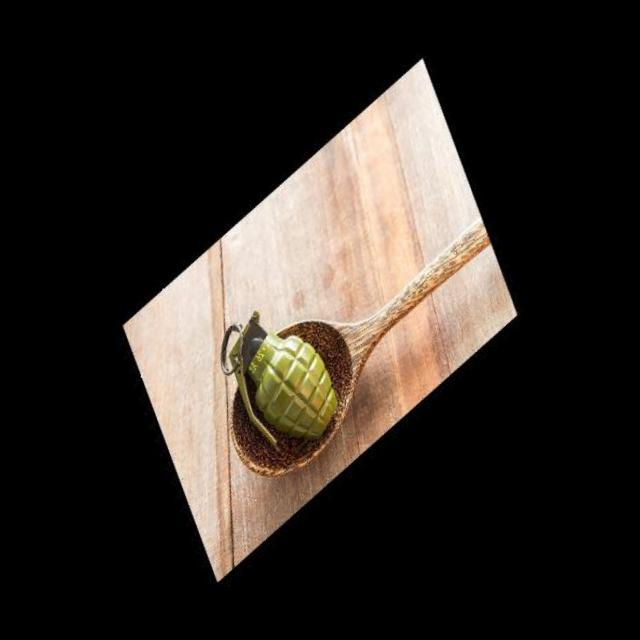grenade: (192, 291, 360, 458)
